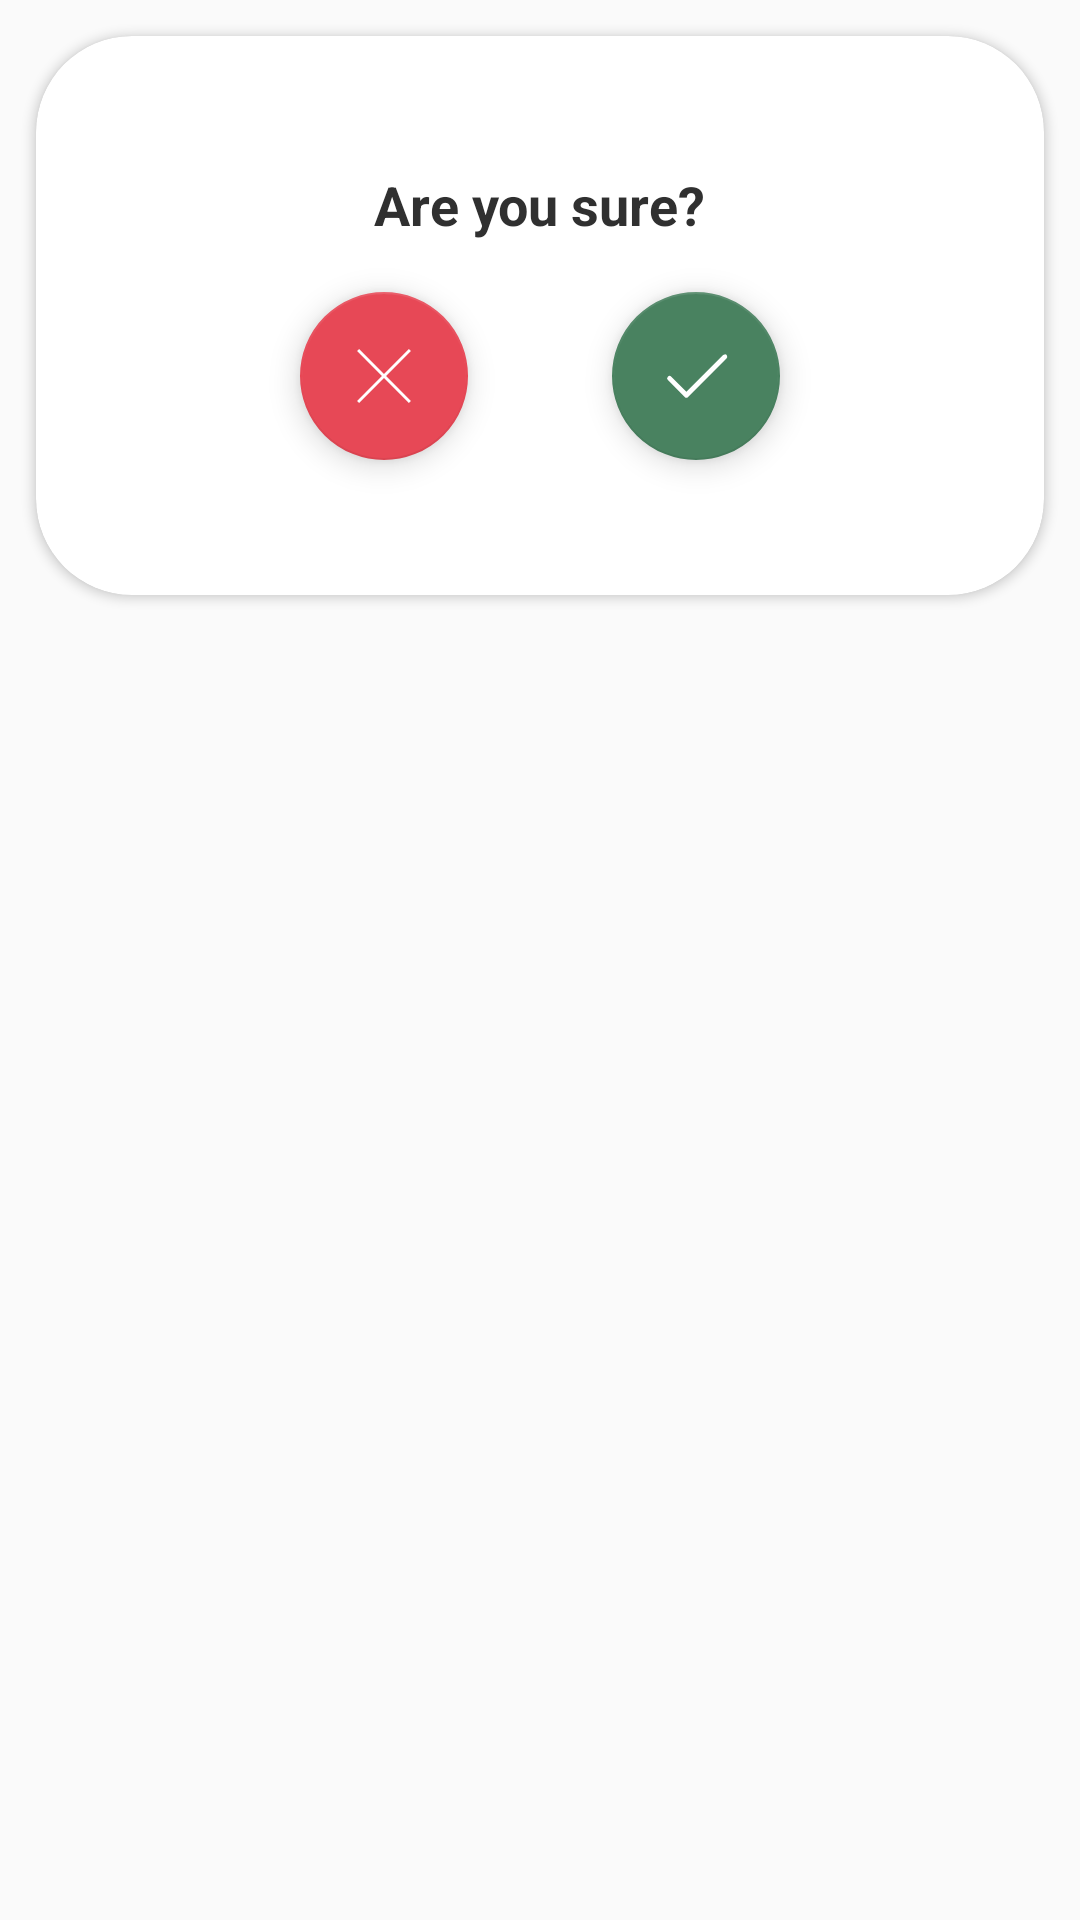

Icons on this 1080 x 1920 Android screen, each with the point to tap as [x,y]:
cancel: [384,376]
checkmark: [696,376]
